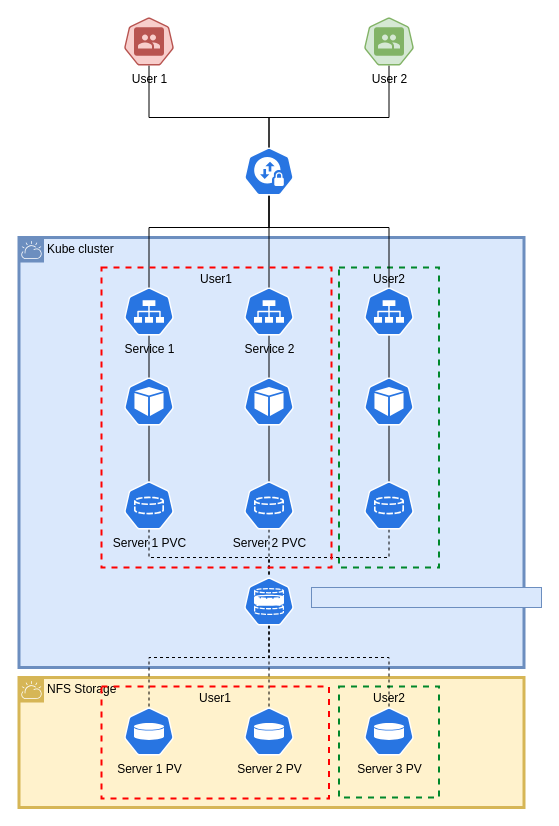
Some shapes in this 559 by 826 pixel diagram are drawn without their labels. The centre of each missing label's shape, as x and y in pixels:
Client Server 1: the point at 148,401
Client Server 2: the point at 268,401
Client Server 3: the point at 388,401
Secure access: the point at 268,171
Server 3 PVC: the point at 388,505
Service 3: the point at 388,311
Storage class dynamically provisions PV: the point at 426,597
Storage Class NFS: the point at 268,601
